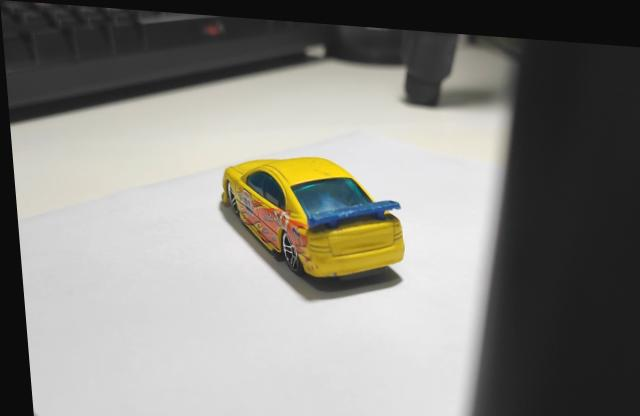02_OZSOME: (219, 152, 402, 274)
